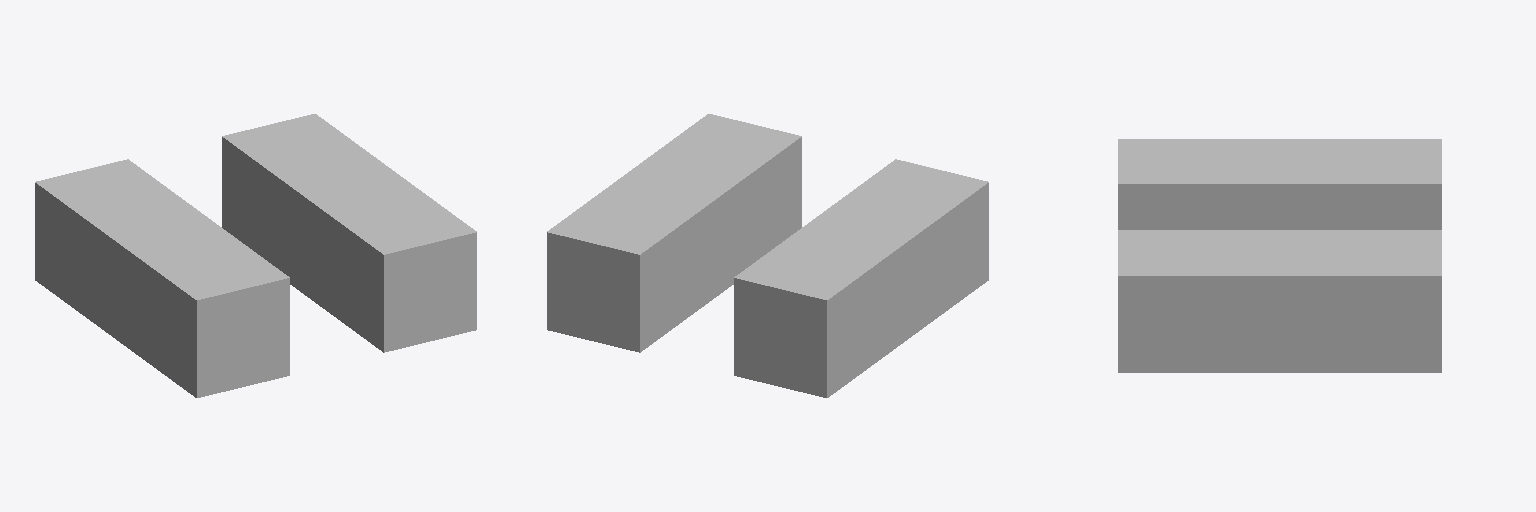
Rendered from vox.obj.
3 renders of one model, left to right at view 1: azimuth 30°, elevation 25°; view 2: azimuth 150°, elevation 25°; view 3: azimuth 270°, elevation 25°, orthographic.
Bounding box in the file's own units: 3 × 1 × 3.